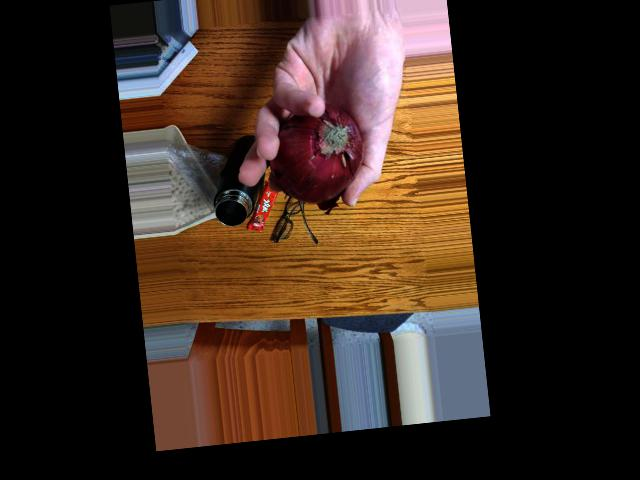onion: (271, 105, 368, 196)
